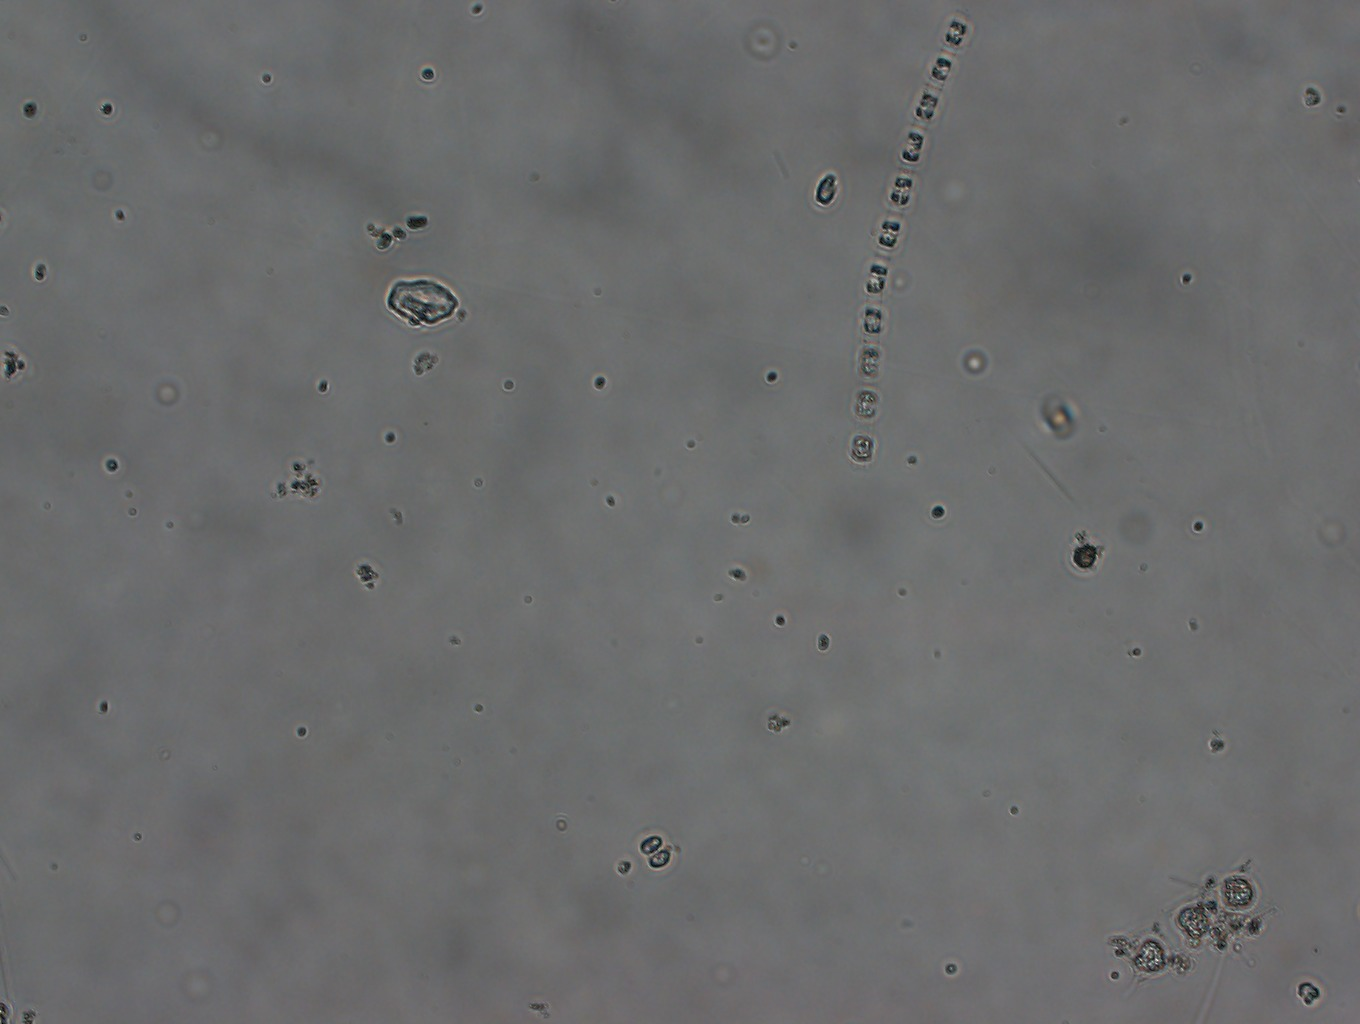skeletonema: (831, 15, 970, 468)
